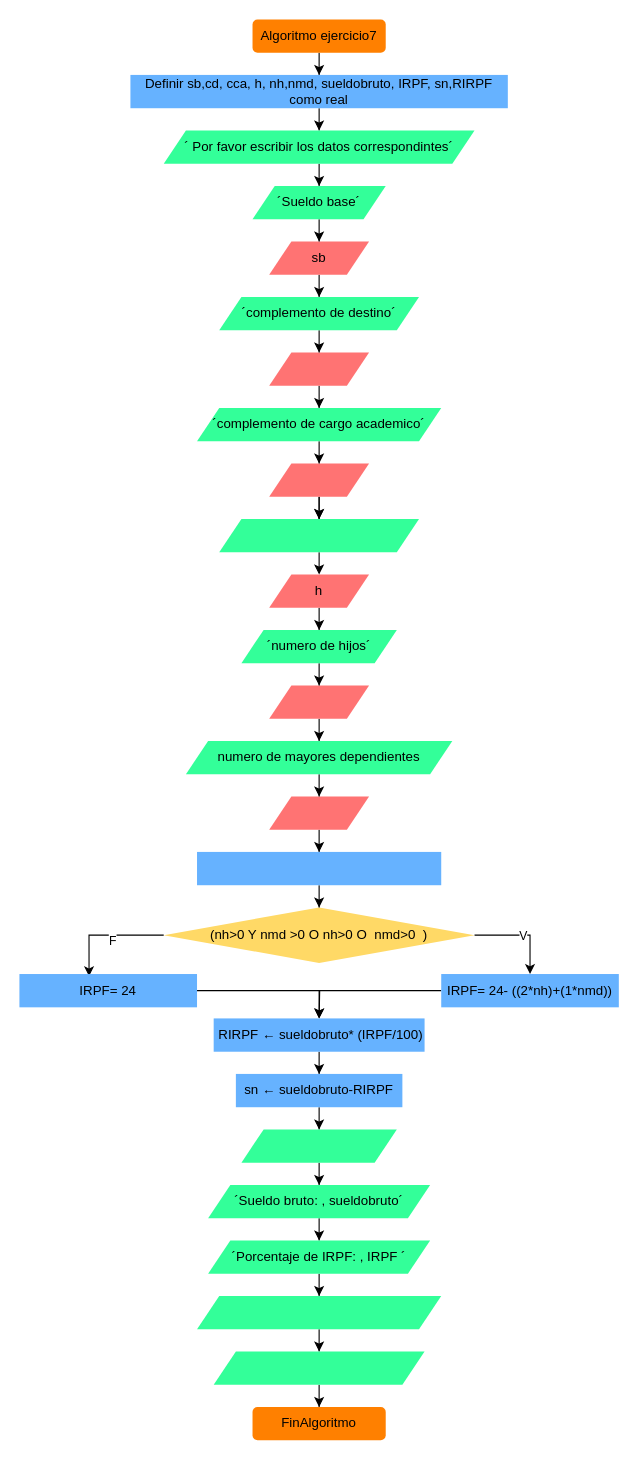
Some shapes in this 637 by 1459 pixel diagram are drawn without their labels. The shapes that lost their labels are listed below. From the top down, each one's centre as x and y in pixels, then its label:
[319,368]: cd
[319,479]: cca
[318,535]: ´horas extras realizadas´
[319,701]: nh
[319,812]: nmd
[318,868]: sueldobruto ← sb+ cd+ cca + (h*23)
[318,1145]: ´Calculo de nomida´
[318,1312]: ´Retencion por IRPF: ´ ,RIRPF, ´$´
[318,1367]: ´Sueldo neto: ´, sn, ´$ ´
